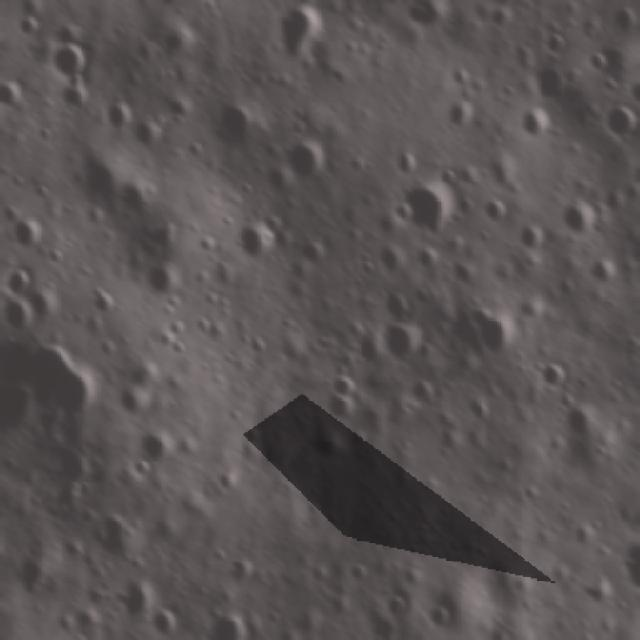crater: (258, 8, 331, 61), (394, 182, 457, 242), (465, 305, 520, 363), (86, 509, 137, 566), (280, 139, 328, 187), (212, 101, 256, 153), (378, 322, 422, 369), (345, 324, 387, 368), (565, 402, 604, 449), (113, 576, 152, 622), (142, 258, 182, 300), (27, 287, 65, 331), (52, 42, 93, 82), (8, 212, 47, 254), (304, 426, 348, 463), (236, 220, 267, 272), (562, 196, 600, 238), (136, 430, 176, 468), (532, 67, 568, 108), (598, 104, 640, 139), (4, 259, 38, 301), (132, 115, 165, 158), (482, 153, 520, 190), (443, 95, 480, 132), (588, 253, 626, 289), (221, 552, 256, 590), (164, 93, 198, 130), (3, 296, 32, 339), (380, 289, 414, 325), (143, 602, 180, 635), (320, 390, 355, 424), (160, 24, 191, 62), (521, 107, 554, 142), (516, 221, 550, 253), (100, 100, 131, 134), (544, 358, 571, 396), (88, 283, 115, 320), (540, 31, 571, 63), (482, 196, 512, 229), (380, 592, 411, 622), (329, 373, 362, 401), (485, 7, 518, 31), (583, 50, 611, 78), (424, 606, 450, 634), (390, 197, 413, 226), (448, 65, 470, 90), (598, 75, 618, 97)
